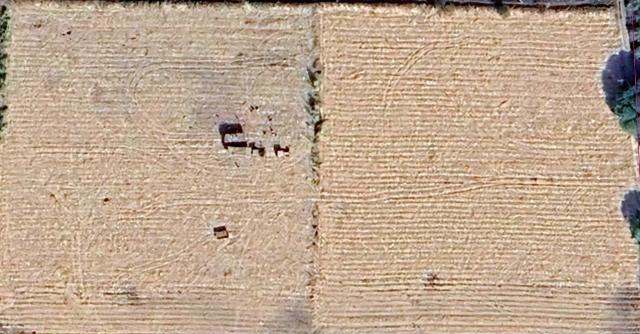Farms: (313, 5, 640, 334), (0, 3, 314, 334)
